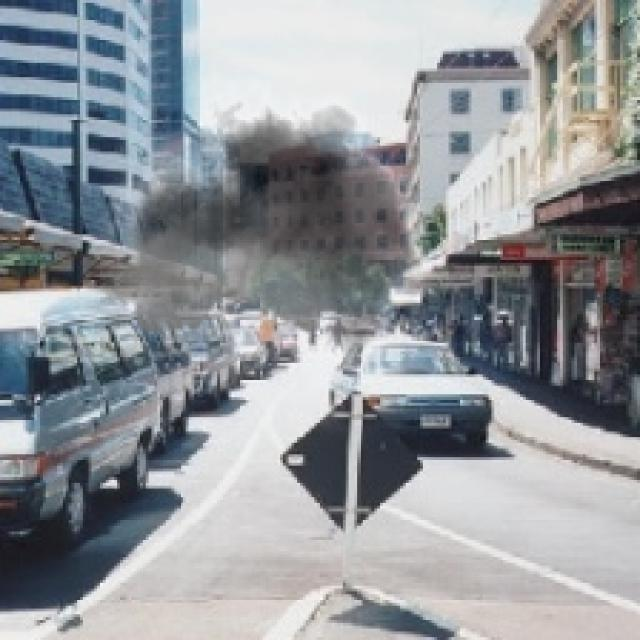smoke: (100, 54, 451, 434)
